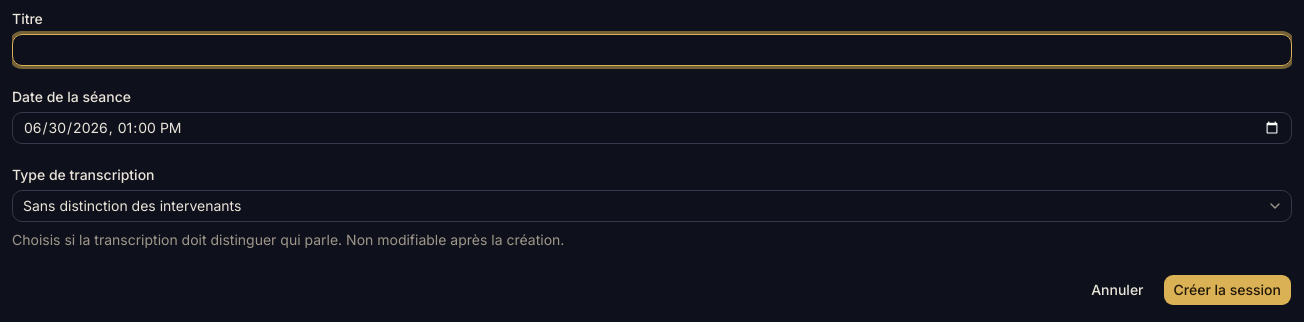
Test: <NewSessionForm> › exposes a 'Type de transcription' picker with functional labels, defaulting to non_diarised
# Options only mount when the popup opens.
Click the dropdown named "Type de transcription" at (132, 206), box [12,190,1292,222]
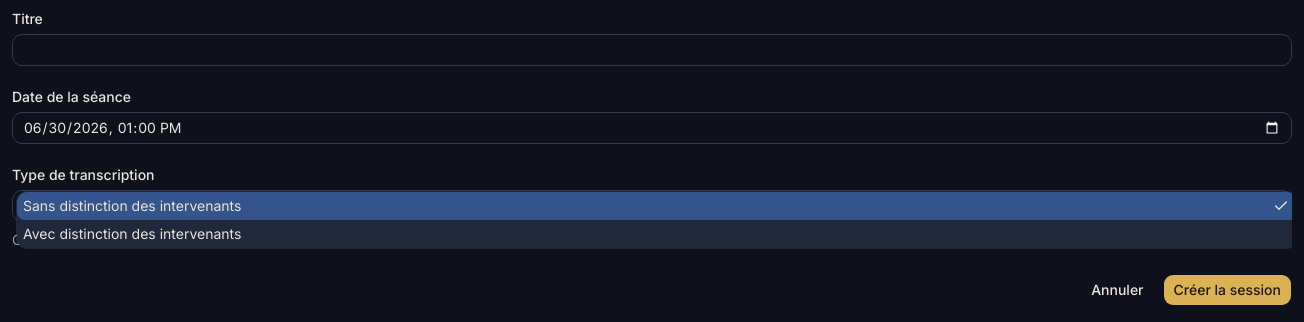
Result: the option "Avec distinction des intervenants" is shown at [23,225,241,242]
